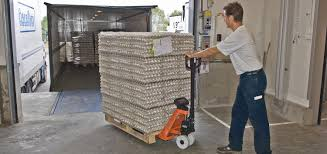Pallet Jack: (102, 53, 202, 151)
